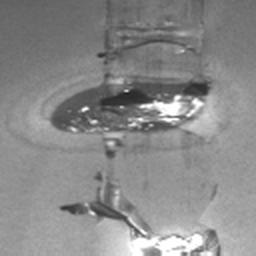Slag inclusion: (50, 0, 212, 161), (56, 170, 221, 256)
